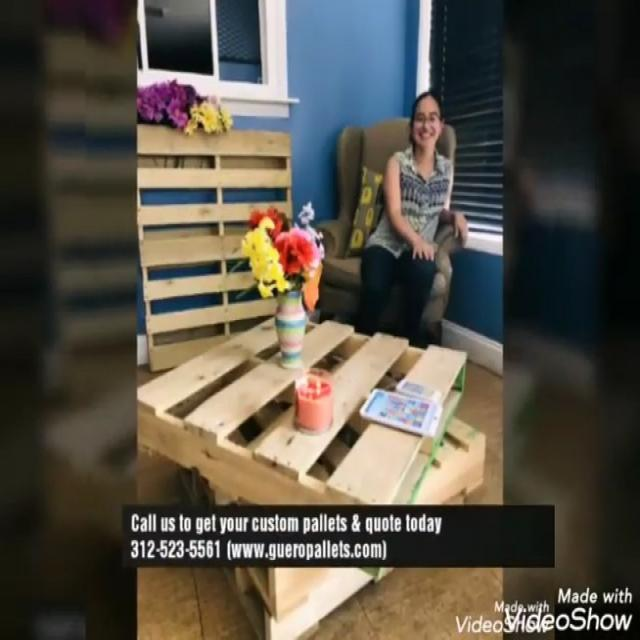Palette: (137, 323, 492, 640), (137, 118, 305, 372)
